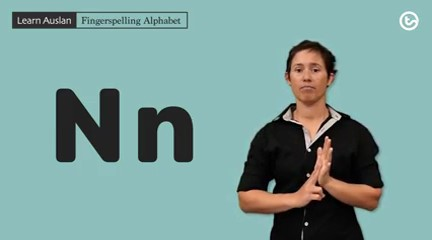N: (296, 135, 338, 208)
